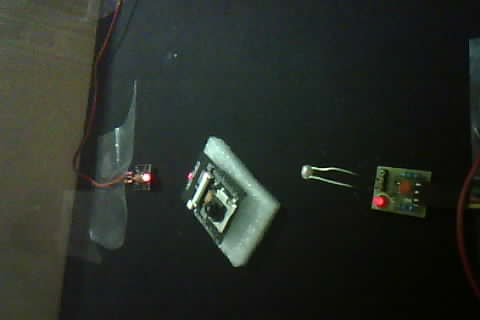esp32: (173, 135, 270, 264)
